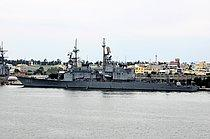MIL_Ship: (15, 38, 197, 93)
